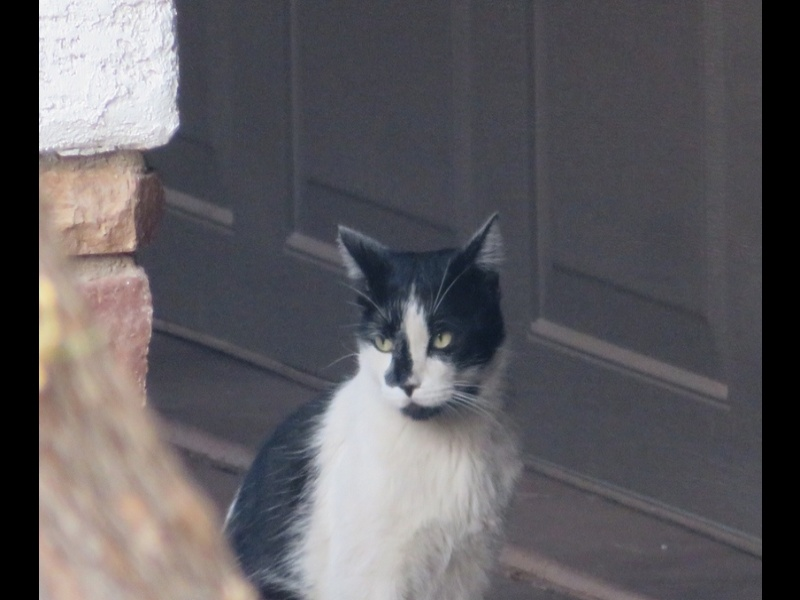cat: (224, 206, 526, 600)
